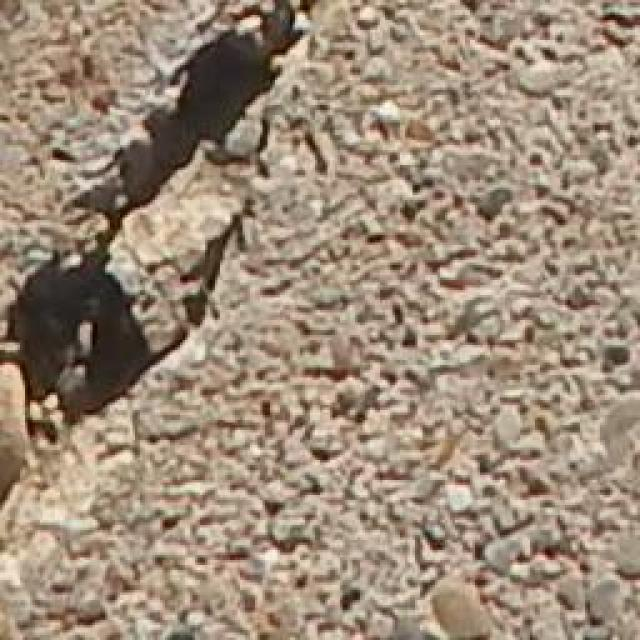concrete-crack: (0, 0, 332, 520)
